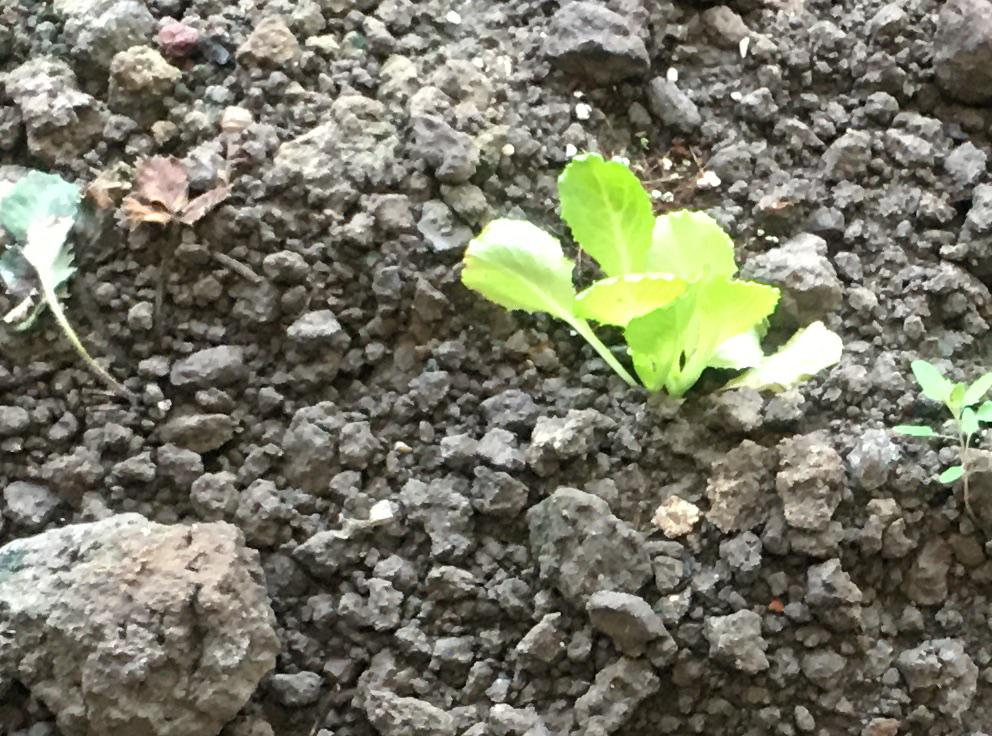block: (1, 510, 281, 733)
